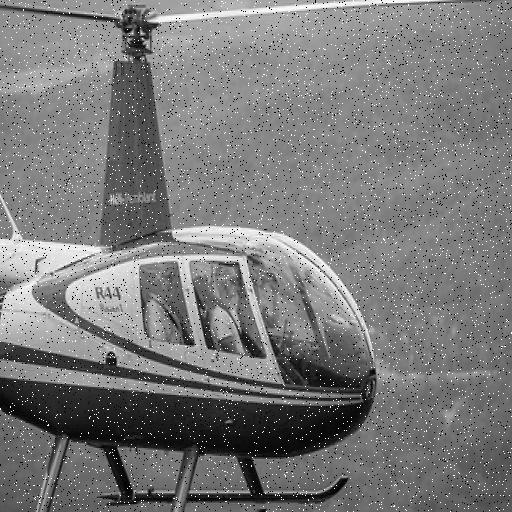helicopter: (1, 1, 379, 512)
